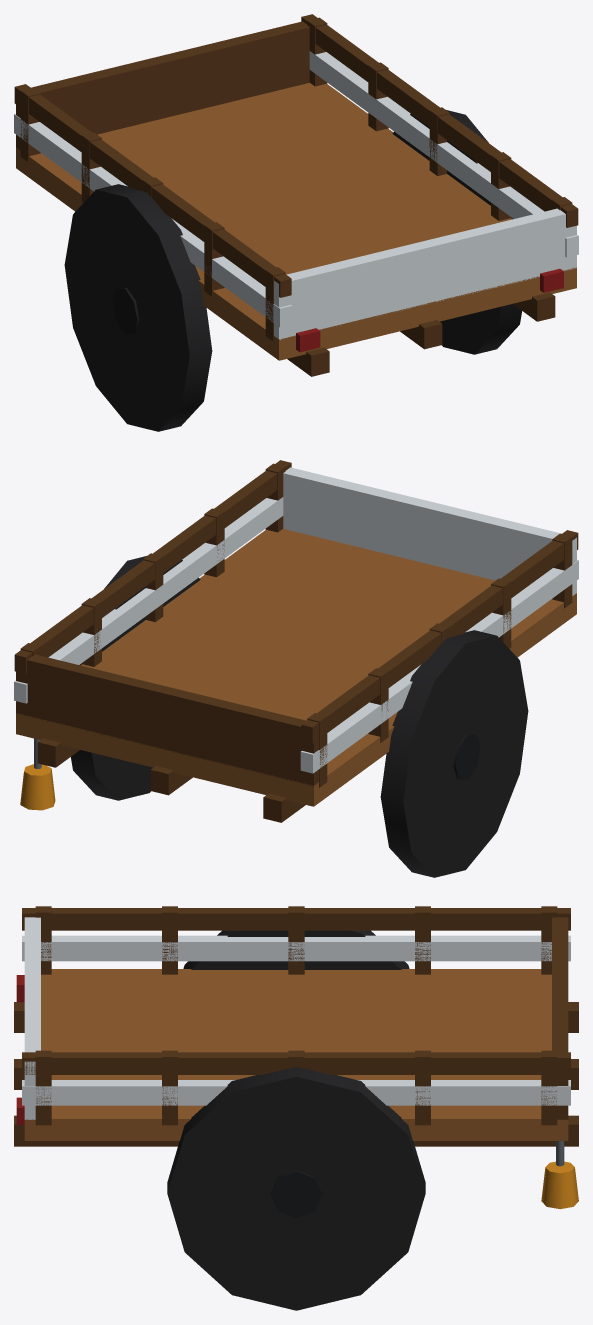
File: cart.glb
The picture shows the model from 3 angles, top to bottom: view 1: azimuth 30°, elevation 25°; view 2: azimuth 150°, elevation 25°; view 3: azimuth 270°, elevation 25°; orthographic projection. The views are drawn at different scales.
Parts seen in each view (by area): view 1: bed_main, wheel_L, rear_board, front_board, rail_band_1, rail_top_1, rail_top_-1, rail_band_-1, wheel_R, post_-1_0.99, post_-1_-0.42, stringer_0.5 (+8 smaller); view 2: bed_main, wheel_L, front_board, rear_board, rail_band_1, rail_top_1, rail_top_-1, rail_band_-1, wheel_R, hazard_lantern, stringer_0.5, stringer_-0.5 (+9 smaller); view 3: bed_main, wheel_R, rail_band_-1, rail_top_-1, rail_top_1, rail_band_1, wheel_L, rear_board, front_board, stringer_0.5, hazard_lantern, post_1_-0.42 (+10 smaller).
Boxes of the visible parts, box(x1,y1,x2,y2) form: bed_main: box(16, 83, 576, 360); wheel_L: box(64, 184, 212, 431); rear_board: box(274, 208, 576, 340); front_board: box(16, 21, 309, 149); rail_band_1: box(309, 51, 578, 257); rail_top_1: box(301, 14, 578, 227); rail_top_-1: box(14, 84, 291, 297); rail_band_-1: box(14, 113, 292, 327); wheel_R: box(392, 110, 521, 354); post_-1_0.99: box(204, 222, 224, 296); post_-1_-0.42: box(20, 87, 40, 162); stringer_0.5: box(513, 292, 555, 321); bed_main: box(16, 529, 576, 806); wheel_L: box(380, 630, 528, 877); front_board: box(16, 654, 318, 786); rear_board: box(283, 467, 576, 595); rail_band_1: box(14, 497, 283, 703); rail_top_1: box(14, 460, 291, 673); rail_top_-1: box(301, 530, 578, 743); rail_band_-1: box(300, 559, 578, 773); wheel_R: box(71, 556, 200, 800); hazard_lantern: box(20, 764, 55, 810); stringer_0.5: box(37, 738, 79, 767); stringer_-0.5: box(263, 793, 305, 822); bed_main: box(24, 969, 568, 1140); wheel_R: box(167, 1067, 425, 1310); rail_band_-1: box(22, 935, 570, 961); rail_top_-1: box(22, 908, 570, 930); rail_top_1: box(22, 1052, 570, 1074); rail_band_1: box(22, 1080, 570, 1105); wheel_L: box(183, 930, 409, 969); rear_board: box(24, 917, 40, 1119); front_board: box(552, 917, 568, 1119); stringer_0.5: box(14, 1115, 578, 1146); hazard_lantern: box(541, 1161, 578, 1209); post_1_-0.42: box(541, 1050, 557, 1125).
Size of the model in its own units: 1.52 by 1 by 2.1.
